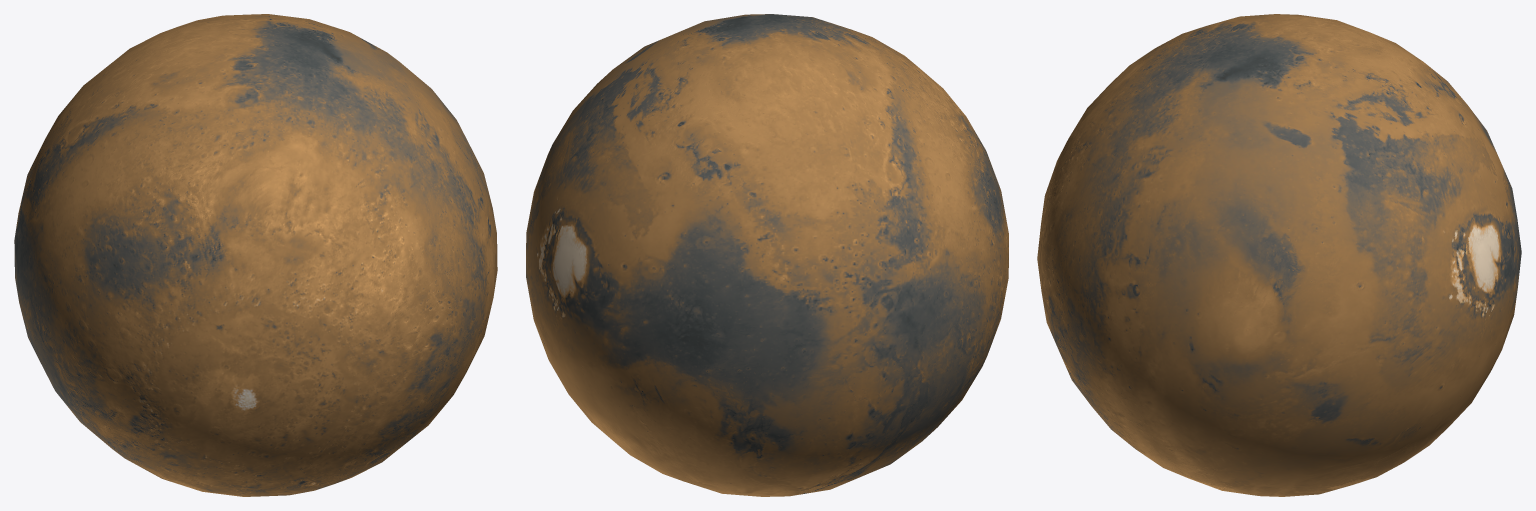
Rendered from mars2k.gltf.
3 views of the same model, side by side, from view 1: azimuth 30°, elevation 25°; view 2: azimuth 150°, elevation 25°; view 3: azimuth 270°, elevation 25° (orthographic).
Visible parts, largest first — view 1: Atmosphere; view 2: Atmosphere; view 3: Atmosphere.
Boxes of the visible parts, left/top/right/bottom form: Atmosphere: left=14, top=14, right=497, bottom=496; Atmosphere: left=526, top=14, right=1008, bottom=496; Atmosphere: left=1037, top=14, right=1521, bottom=496.
Size of the model in its own units: 6.85 by 6.84 by 6.86.
4 materials, 1 textured.
